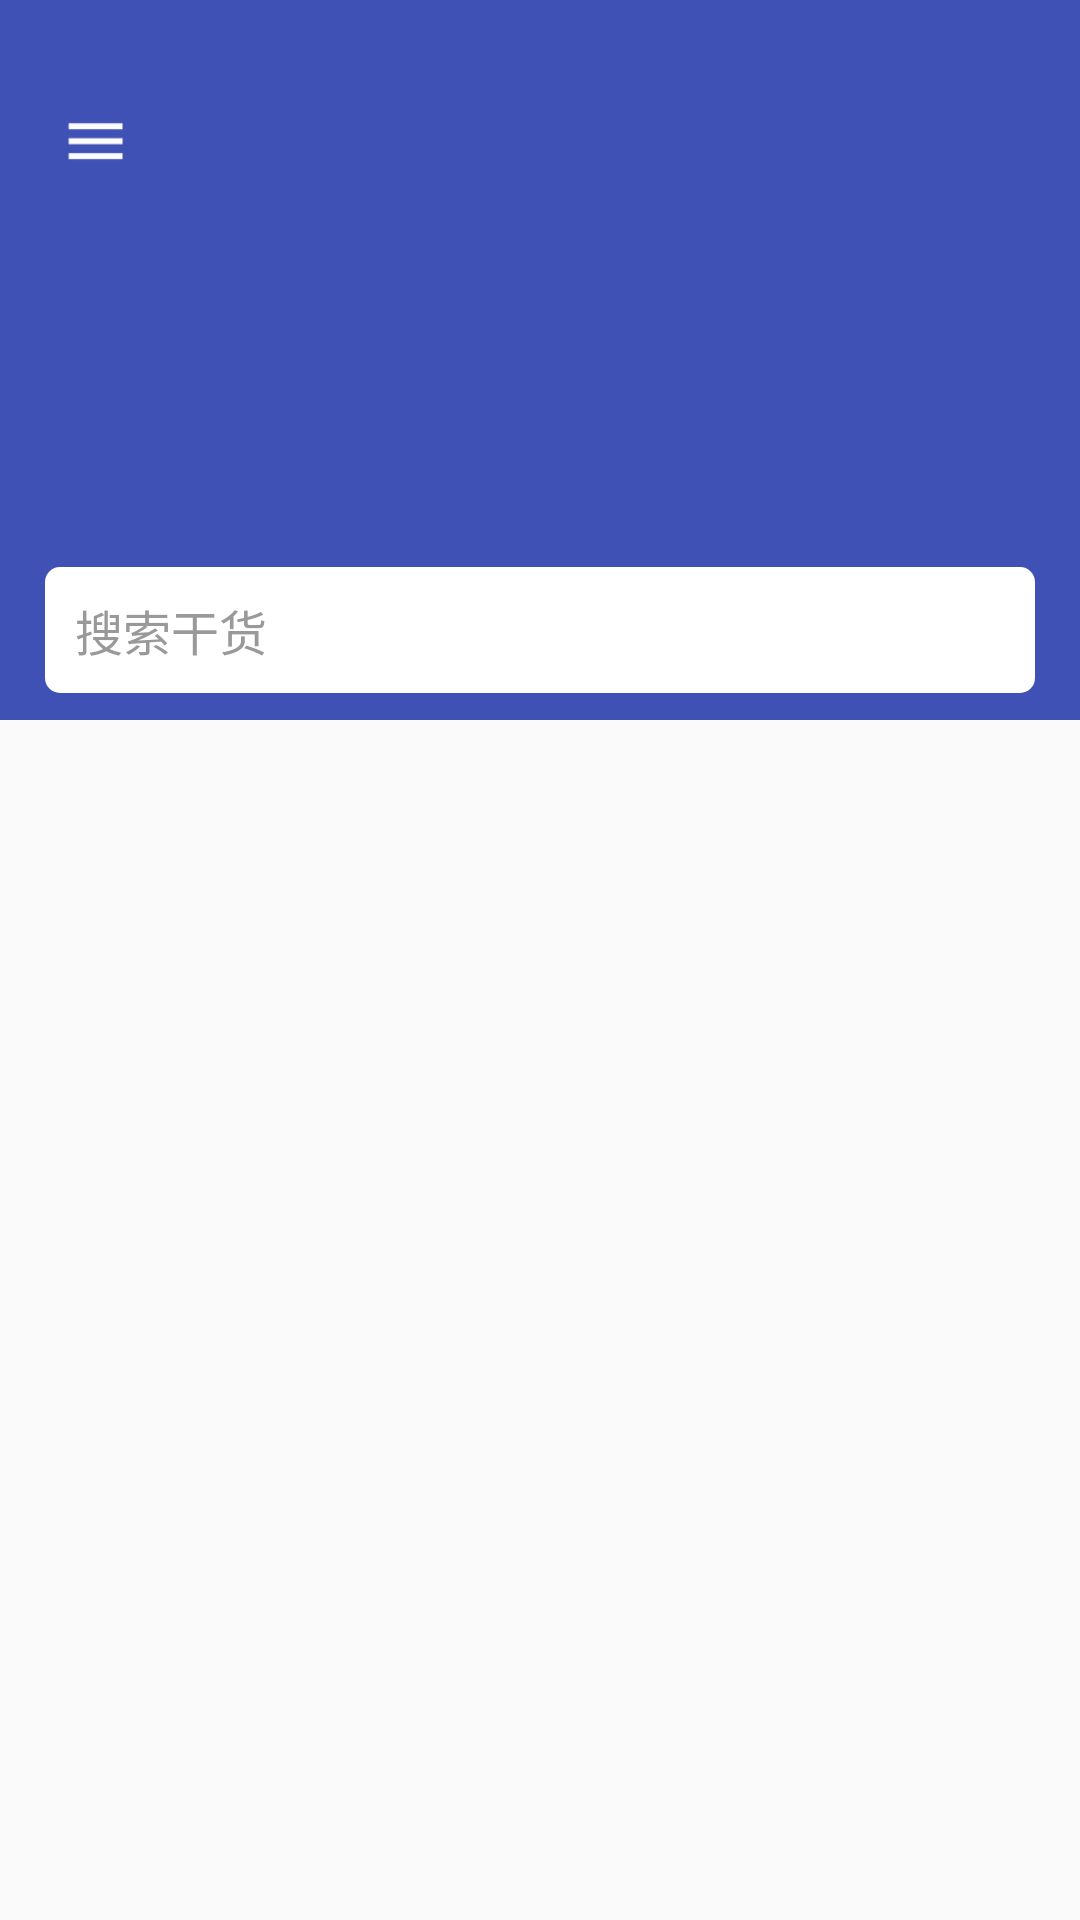

Where to tap for icons on this 1080w x 1920h app screen, as (x=x, y=y):
menu: (x=95, y=141)
